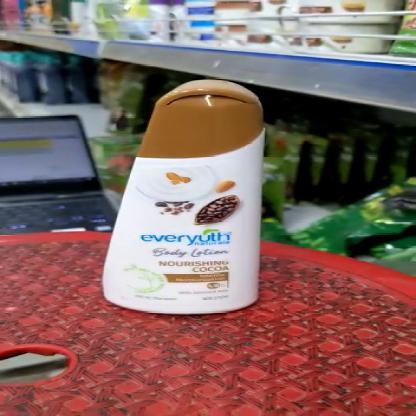Everyuth Naturals Body Lotion Nourishing Cocoa 200ml: (110, 78, 288, 320)
